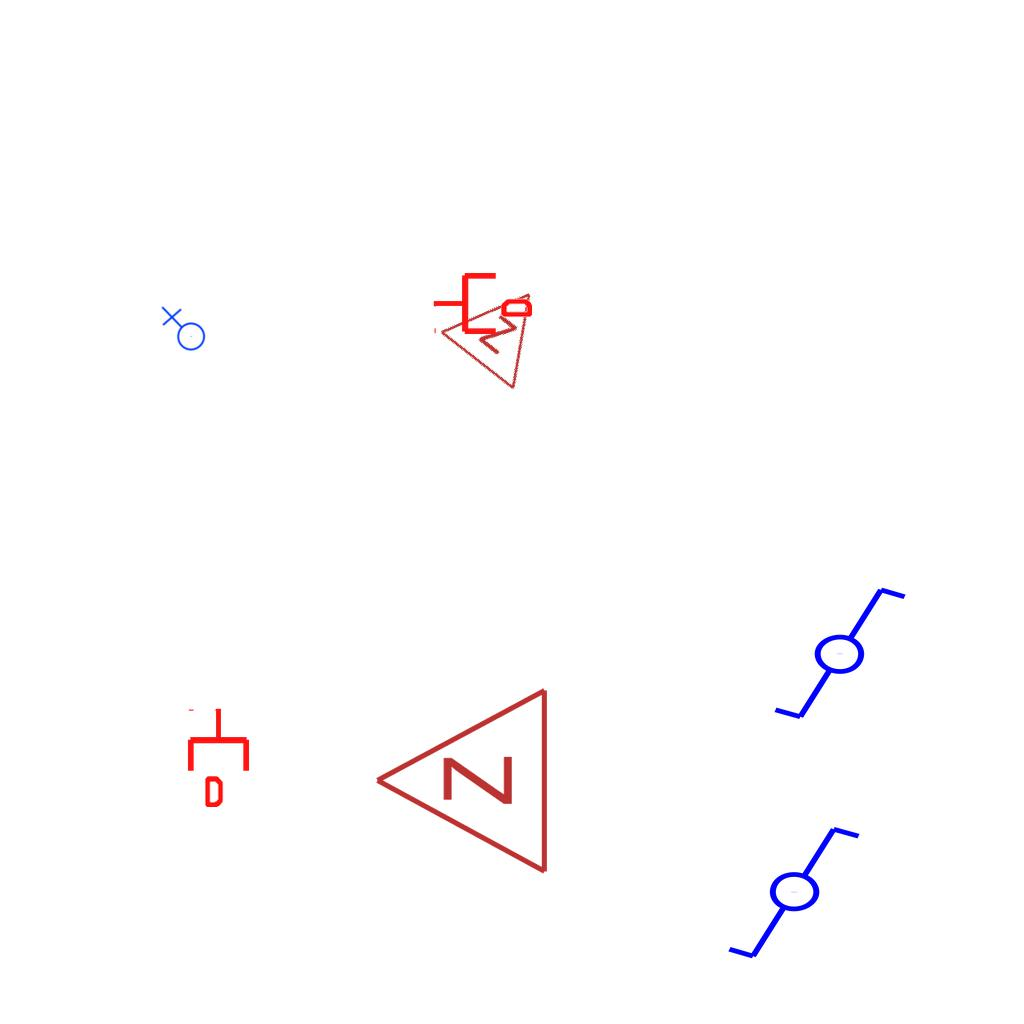Datenanschluss_einfach: (184, 707, 253, 807), (432, 269, 532, 338)
Elektroanschluss_allgemein_230V_Geraeteanschlussdose_230V: (159, 306, 206, 355)
Wechselschalter: (724, 822, 881, 966), (753, 580, 910, 724)
Zimmersignalleuchte: (362, 685, 562, 881), (432, 257, 572, 397)
